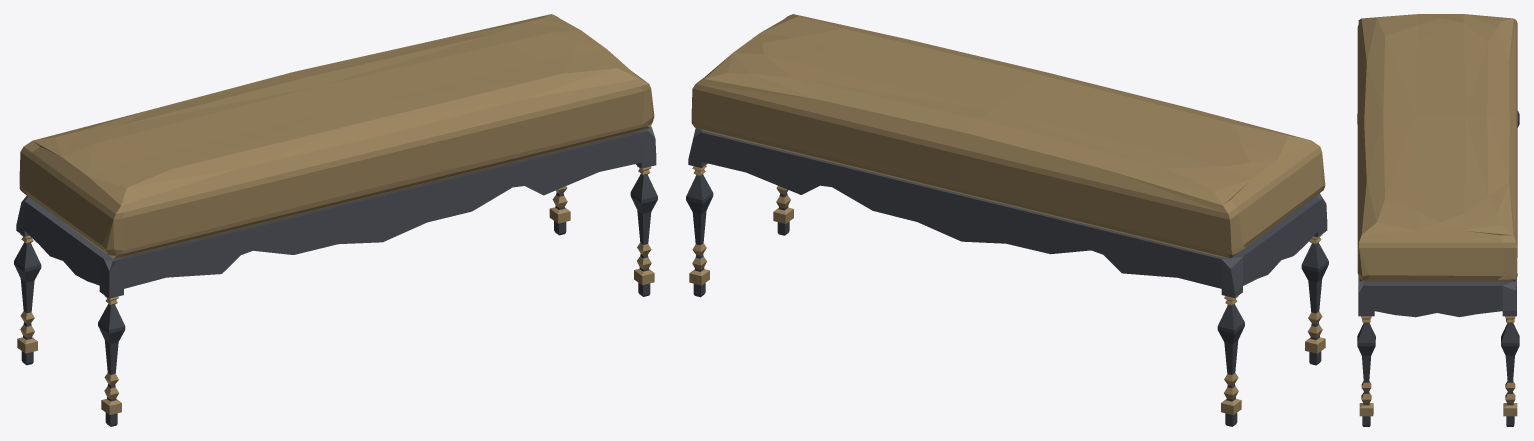
File: WF_LP_HT_Props_PianoChair.fbx
3 renders of one model, left to right at view 1: azimuth 30°, elevation 25°; view 2: azimuth 150°, elevation 25°; view 3: azimuth 270°, elevation 25°, orthographic. The views are drawn at different scales.
Parts seen in each view (by area): view 1: WF_LP_HT_Props_PianoChair; view 2: WF_LP_HT_Props_PianoChair; view 3: WF_LP_HT_Props_PianoChair.
Boxes of the visible parts, x1,y1,x2,y2 form: WF_LP_HT_Props_PianoChair: (14,14,657,426); WF_LP_HT_Props_PianoChair: (686,14,1328,426); WF_LP_HT_Props_PianoChair: (1357,14,1519,426).
Bounding box in the file's own units: 1.59 × 0.6397 × 0.4752.
